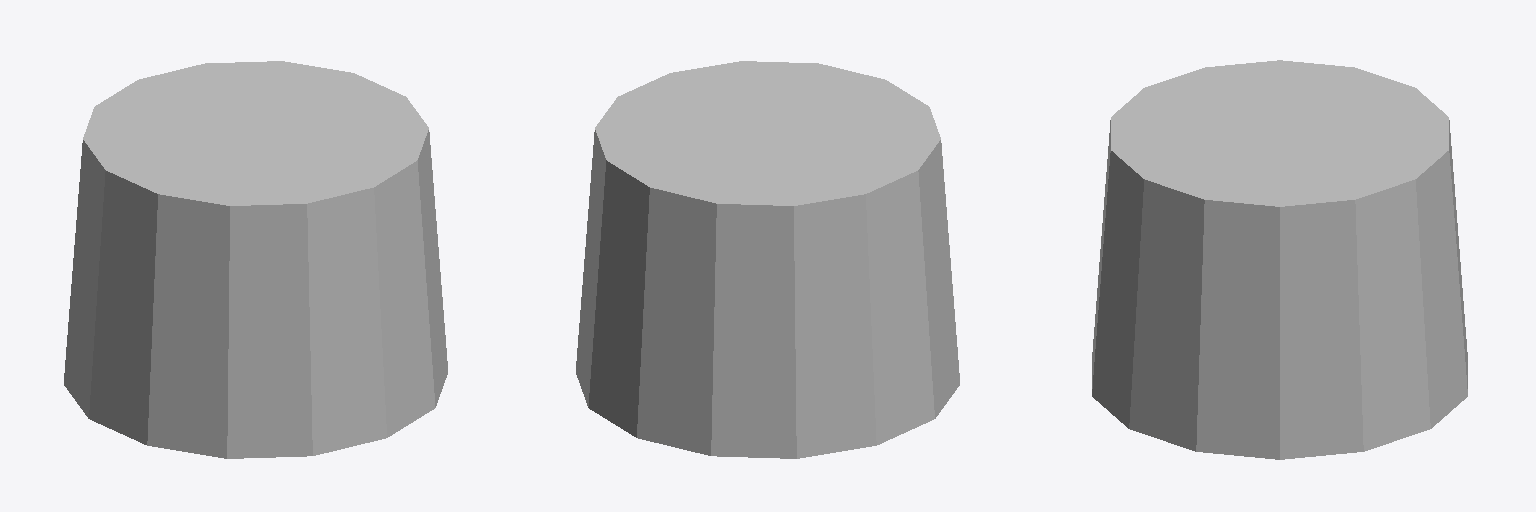
File: 68. Заглушка.obj
3 views of the same model, side by side, from view 1: azimuth 30°, elevation 25°; view 2: azimuth 150°, elevation 25°; view 3: azimuth 270°, elevation 25° (orthographic).
Visible parts, largest first — view 1: Твердое тело1; view 2: Твердое тело1; view 3: Твердое тело1.
Part boxes in pixels (x1,y1,x2,y2): Твердое тело1: (64, 61, 447, 458); Твердое тело1: (576, 61, 959, 458); Твердое тело1: (1092, 60, 1467, 459).
Size of the model in its own units: 10 by 7 by 9.75.